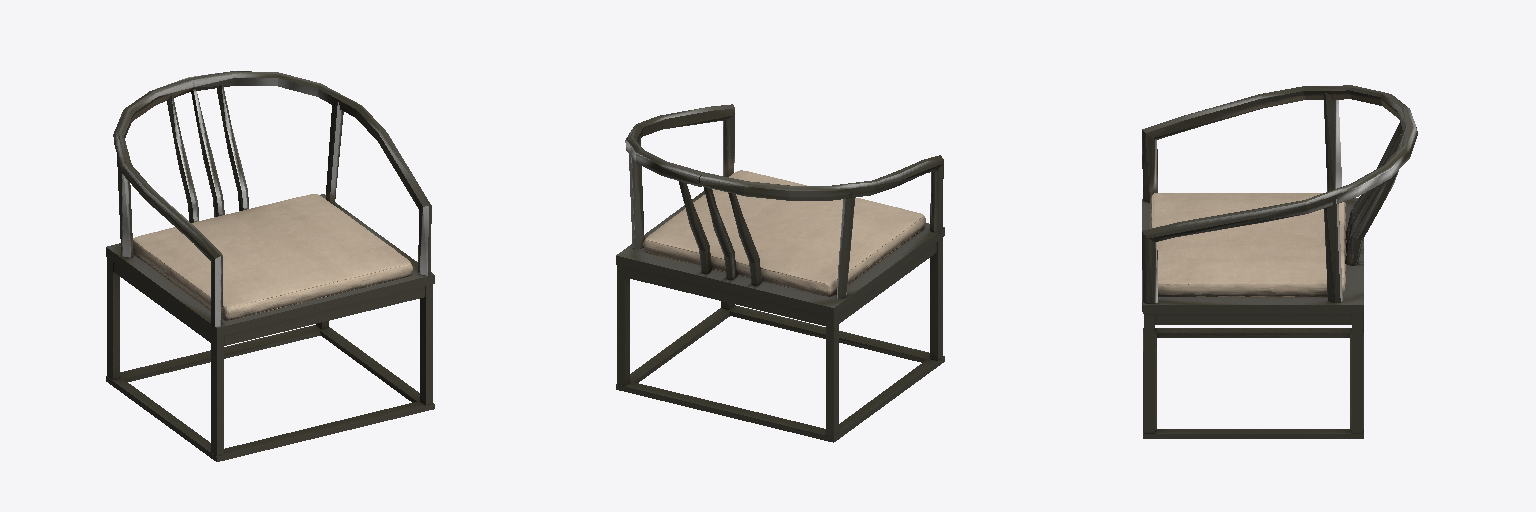
3 views of the same model, side by side, from view 1: azimuth 30°, elevation 25°; view 2: azimuth 150°, elevation 25°; view 3: azimuth 270°, elevation 25° (orthographic).
Visible parts, largest first — view 1: solid_001, solid_002; view 2: solid_001, solid_002; view 3: solid_001, solid_002.
Part boxes in pixels (left/top/right/bottom): solid_001: left=106, top=71, right=434, bottom=461; solid_002: left=133, top=194, right=412, bottom=319; solid_001: left=616, top=104, right=944, bottom=442; solid_002: left=643, top=170, right=925, bottom=295; solid_001: left=1142, top=85, right=1417, bottom=438; solid_002: left=1150, top=193, right=1345, bottom=296.
Size of the model in its own units: 0.8715 by 0.8849 by 0.8546.
Materials: 1 (1 with a texture image).